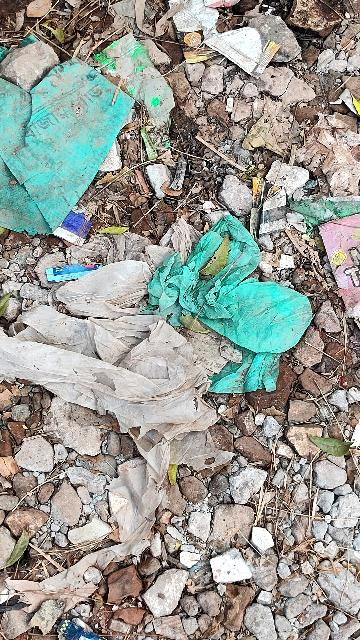polythene: (177, 221, 306, 393), (6, 44, 125, 225)
